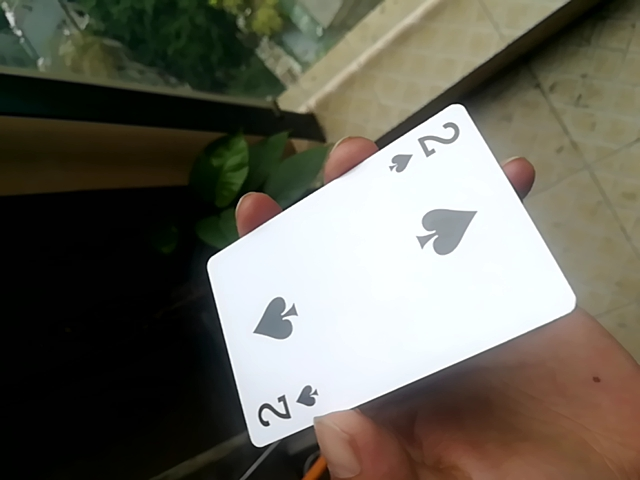ht 2: (197, 102, 571, 453)
